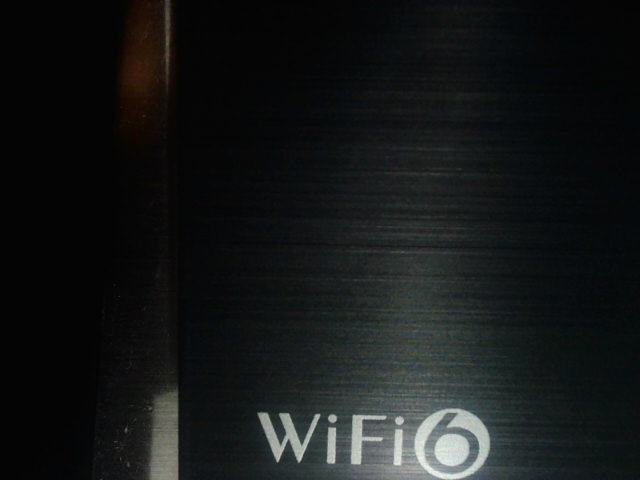AK_ZTEWIFI6Black: (249, 400, 497, 479)
